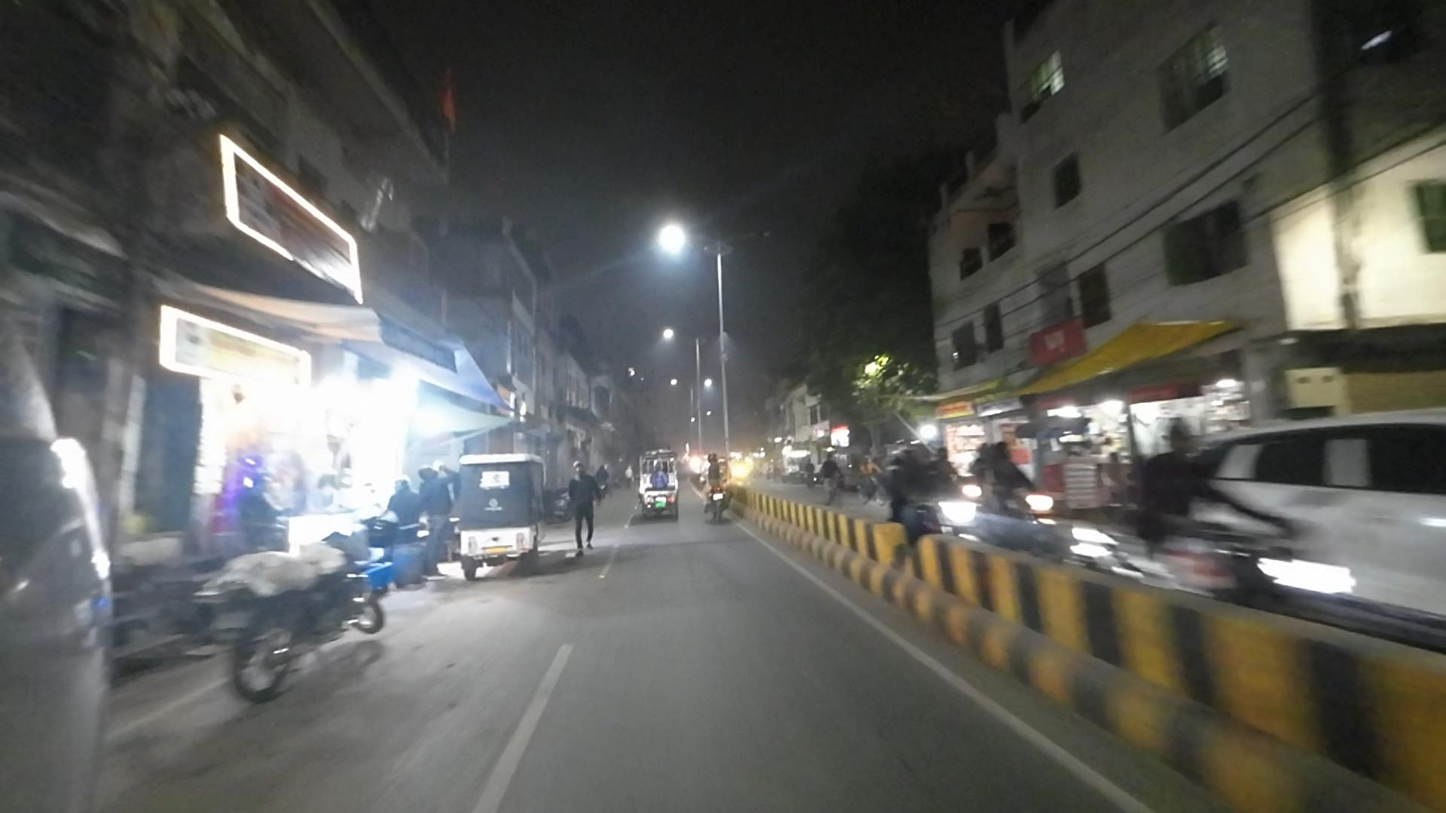streetlight: (733, 229, 772, 241)
